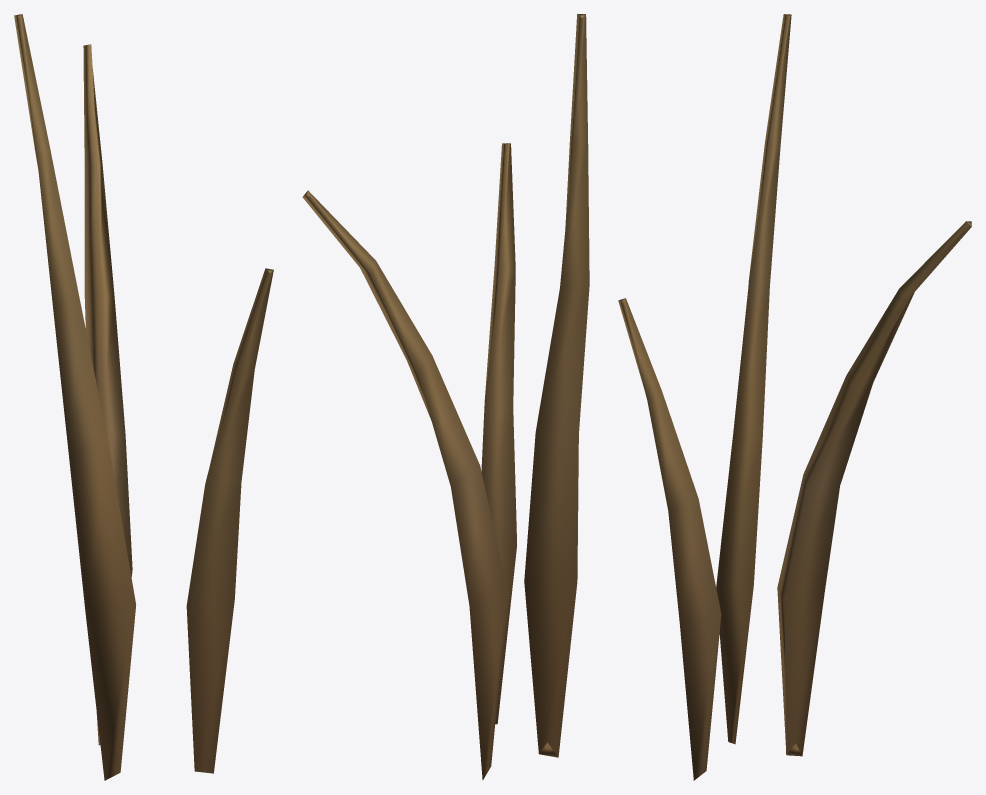
Rendered from trees-grasses-dry-grass-blades_v10.glb.
3 renders of one model, left to right at view 1: azimuth 30°, elevation 25°; view 2: azimuth 150°, elevation 25°; view 3: azimuth 270°, elevation 25°, orthographic. The views are drawn at different scales.
Parts seen in each view (by area): view 1: Dry Grass Blades_v10; view 2: Dry Grass Blades_v10; view 3: Dry Grass Blades_v10.
Boxes of the visible parts, bbox=[...] form: Dry Grass Blades_v10: bbox=[14, 14, 273, 780]; Dry Grass Blades_v10: bbox=[302, 14, 589, 780]; Dry Grass Blades_v10: bbox=[618, 14, 971, 780].
Size of the model in its own units: 0.144 by 0.6 by 0.274.
